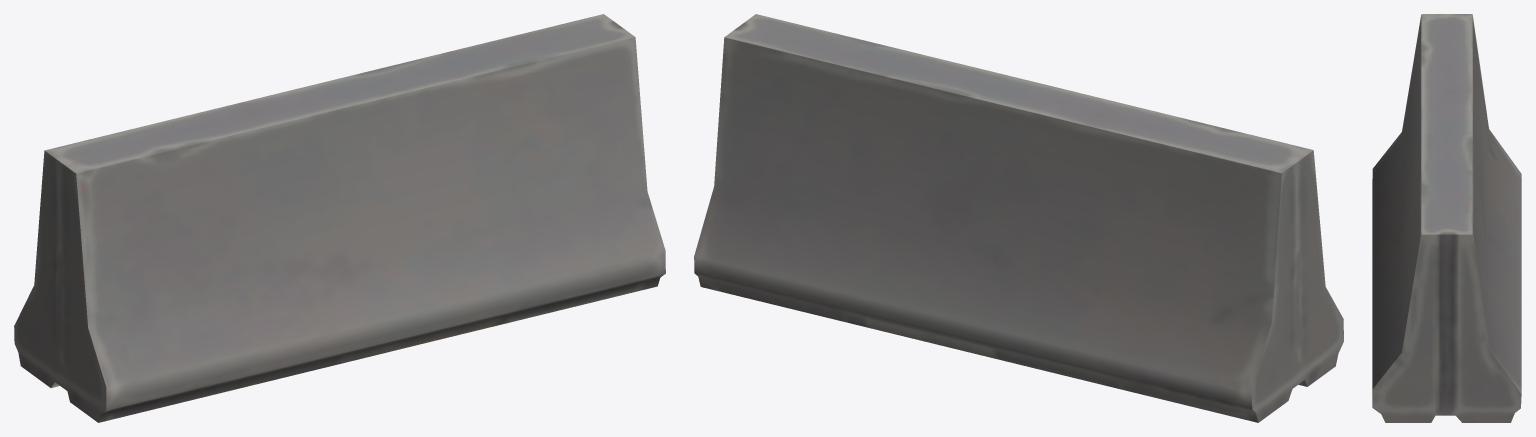
Rendered from Prfb_Roadblock.fbx.
3 renders of one model, left to right at view 1: azimuth 30°, elevation 25°; view 2: azimuth 150°, elevation 25°; view 3: azimuth 270°, elevation 25°, orthographic. The views are drawn at different scales.
Visible parts, largest first — view 1: Mat_Roadblocks01; view 2: Mat_Roadblocks01; view 3: Mat_Roadblocks01.
Part boxes in pixels (box(x1,y1,x2,y2)): Mat_Roadblocks01: box(14, 14, 665, 422); Mat_Roadblocks01: box(694, 14, 1343, 422); Mat_Roadblocks01: box(1372, 14, 1521, 422).
Bounding box in the file's own units: 2.27 × 0.906 × 0.6505.
1 material, 1 textured.
